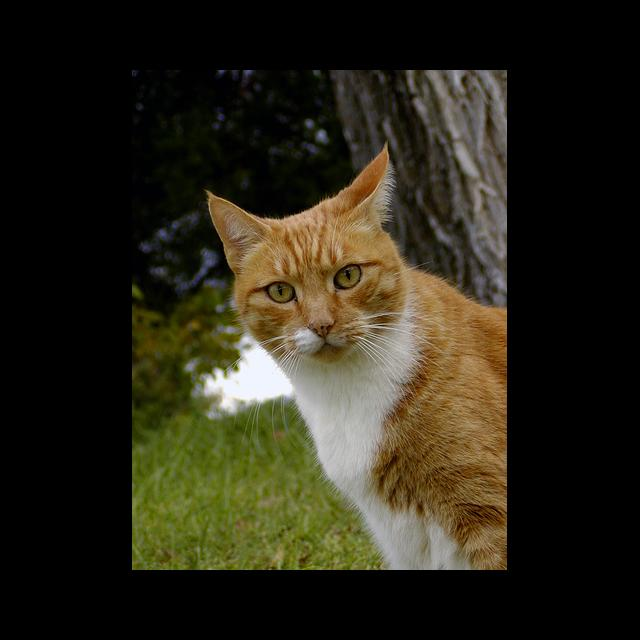animals: (212, 144, 390, 336)
